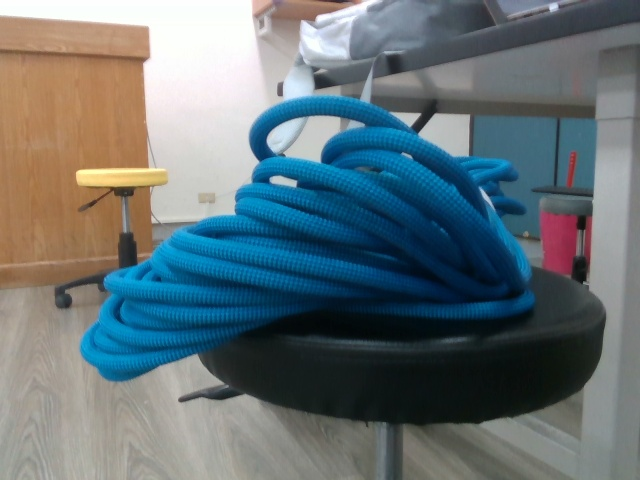rope: (75, 91, 542, 389)
